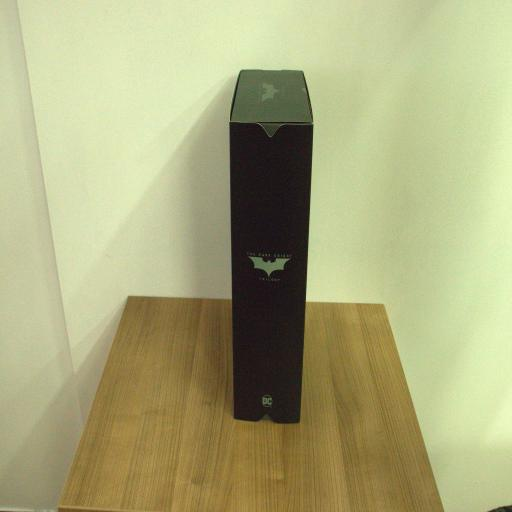catwoman: (230, 69, 314, 424)
